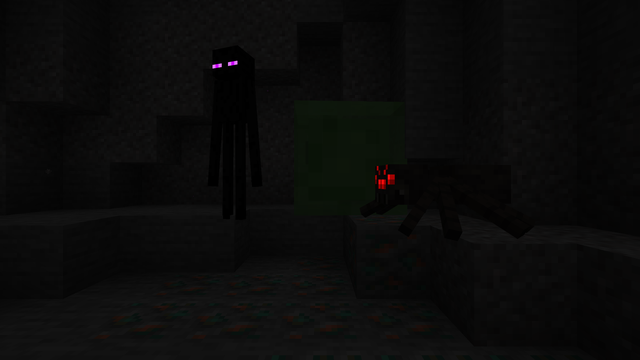araignees: (368, 154, 521, 236)
endermens: (209, 40, 254, 217)
slimes: (288, 95, 407, 214)
